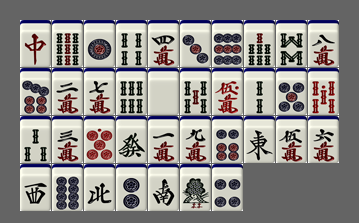0m: (212, 68, 243, 115)
0p: (84, 116, 115, 163)
0s: (308, 68, 339, 115)
1m: (148, 116, 179, 163)
1p: (84, 20, 115, 67)
1s: (180, 164, 211, 211)
1z: (244, 116, 275, 163)
2m: (52, 68, 83, 115)
2p: (116, 164, 147, 211)
2s: (244, 68, 275, 115)
2z: (148, 164, 179, 211)
3m: (52, 116, 83, 163)
3p: (180, 20, 211, 67)
3s: (20, 116, 51, 163)
3z: (20, 164, 51, 211)
4m: (148, 20, 179, 67)
4p: (212, 164, 243, 211)
4s: (116, 20, 147, 67)
4z: (84, 164, 115, 211)
5m: (276, 116, 307, 163)
5p: (276, 68, 307, 115)
5s: (180, 68, 211, 115)
5z: (148, 68, 179, 115)
6m: (308, 116, 339, 163)
6p: (212, 116, 243, 163)
6s: (116, 68, 147, 115)
6z: (116, 116, 147, 163)
7m: (84, 68, 115, 115)
7p: (20, 68, 51, 115)
7s: (244, 20, 275, 67)
7z: (20, 20, 51, 67)
8m: (308, 20, 339, 67)
8p: (52, 164, 83, 211)
8s: (276, 20, 307, 67)
9m: (180, 116, 211, 163)
9p: (212, 20, 243, 67)
9s: (52, 20, 83, 67)
